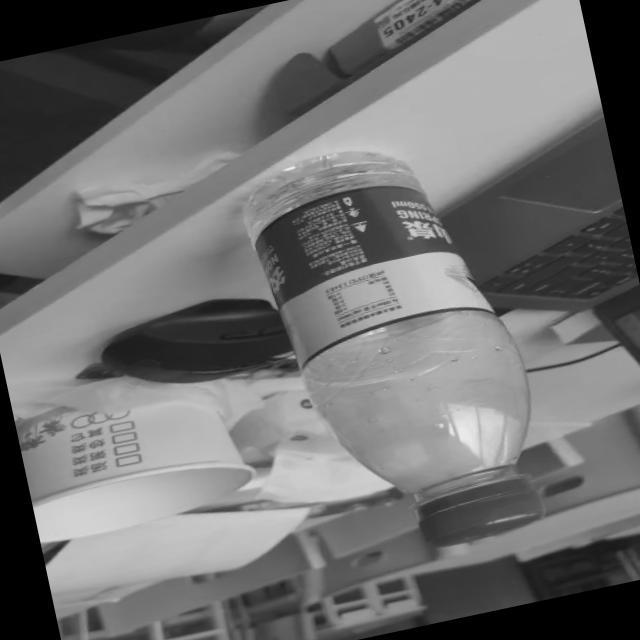good: (205, 129, 562, 579)
